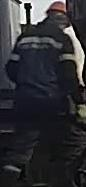gloves: (74, 102, 86, 125)
helmet: (43, 0, 67, 16)
vest: (6, 23, 70, 115)
